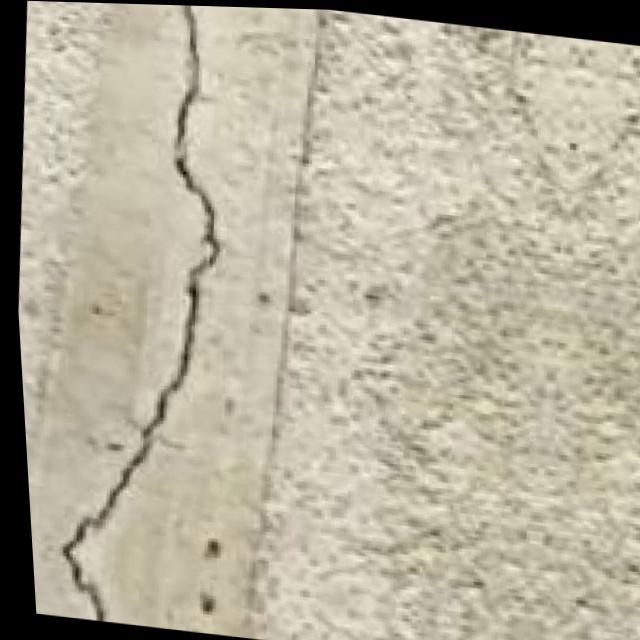Crack: (0, 0, 297, 638)
